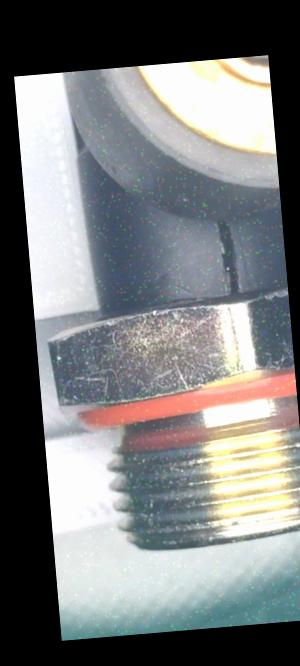craze: (212, 214, 244, 296)
